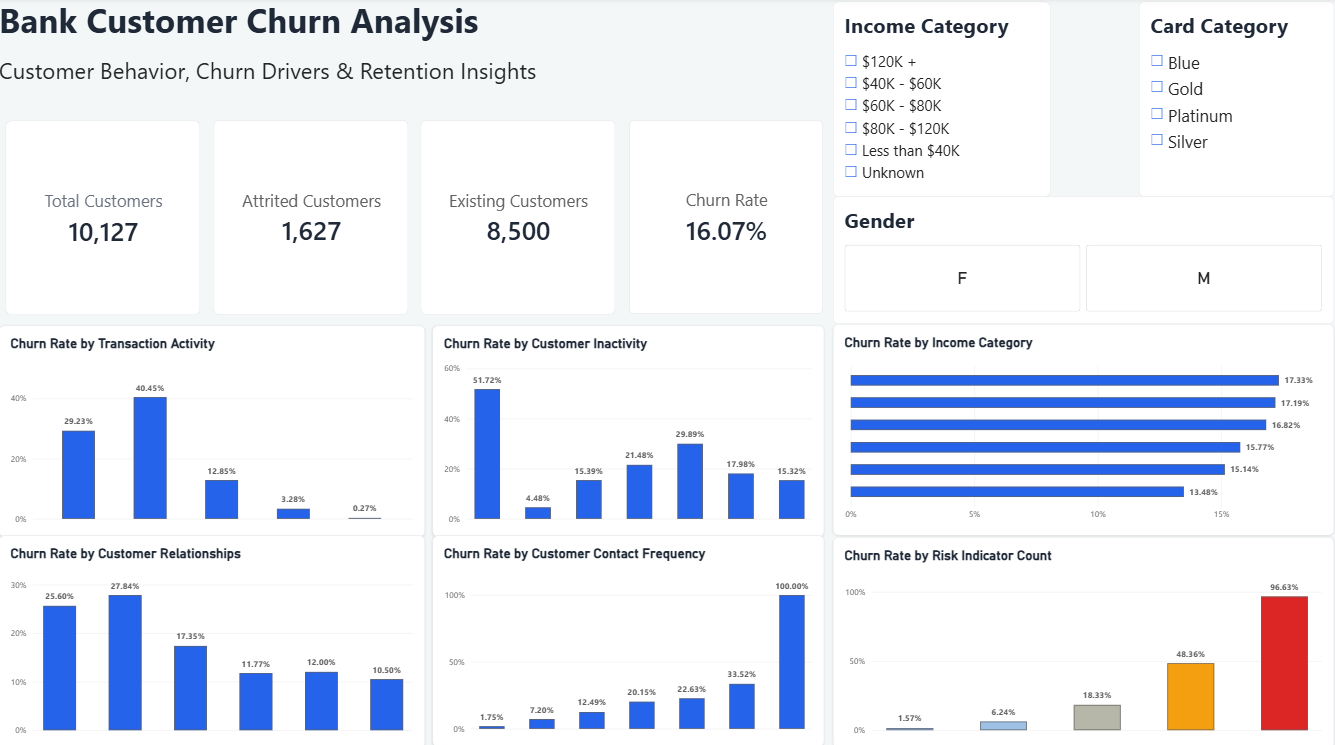

What the dashboard file says about the page in this screenshot:
{"tool":"powerbi","page":{"name":"Bank_Churn_Anlysis_Dashboard","canvas":[1920,1080],"ordinal":0},"visuals":[{"type":"cardVisual","fields":{"Data":["Bank_Churn_Cleaned.Total Customers"]},"box":[8.6,176.9,280,280],"z":0},{"type":"cardVisual","fields":{"Data":["Bank_Churn_Cleaned.Attrited Customers"]},"box":[307.8,176.9,280,280],"z":1000},{"type":"cardVisual","fields":{"Data":["Bank_Churn_Cleaned.Existing Customers"]},"box":[606.9,176.9,280,280],"z":2000},{"type":"cardVisual","fields":{"Data":["Bank_Churn_Cleaned.Churn Rate"]},"box":[906,176.9,279.4,279.4],"z":3000},{"type":"clusteredColumnChart","title":"Churn Rate by Transaction Activity","fields":{"Y":["Bank_Churn_Cleaned.Churn Rate"],"Category":["Bank_Churn_Cleaned.Transaction Count Group"]},"box":[0,472.4,612.6,304.2],"z":4000},{"type":"clusteredColumnChart","title":"Churn Rate by Customer Relationships","fields":{"Category":["Bank_Churn_Cleaned.Total_Relationship_Count"],"Y":["Bank_Churn_Cleaned.Churn Rate"]},"box":[0,774.4,612.6,306.3],"z":5000},{"type":"clusteredColumnChart","title":"Churn Rate by Customer Inactivity","fields":{"Y":["Bank_Churn_Cleaned.Churn Rate"],"Category":["Bank_Churn_Cleaned.Months_Inactive_12_mon"]},"box":[623.4,472.4,563,304.2],"z":6000},{"type":"clusteredColumnChart","title":"Churn Rate by Customer Contact Frequency","fields":{"Y":["Bank_Churn_Cleaned.Churn Rate"],"Category":["Bank_Churn_Cleaned.Contacts_Count_12_mon"]},"box":[623.4,774.4,563,304.2],"z":7000},{"type":"clusteredBarChart","title":"Churn Rate by Income Category","fields":{"Y":["Bank_Churn_Cleaned.Churn Rate"],"Category":["Bank_Churn_Cleaned.Income_Category"]},"box":[1199.4,470.3,720.5,304.2],"z":8000},{"type":"clusteredColumnChart","title":"Churn Rate by Risk Indicator Count","fields":{"Category":["Bank_Churn_Cleaned.Risk Indicator Count"],"Y":["Bank_Churn_Cleaned.Churn Rate"]},"box":[1199.4,776.6,720.5,304.2],"z":9000},{"type":"advancedSlicerVisual","fields":{"Values":["Bank_Churn_Cleaned.Gender"]},"box":[1199.4,286.9,720.5,183.4],"z":10000},{"type":"listSlicer","title":"Income Category","fields":{"Values":["Bank_Churn_Cleaned.Income_Category"]},"box":[1199.4,6.5,312.8,280.4],"z":11000},{"type":"listSlicer","title":"Card Category","fields":{"Values":["Bank_Churn_Cleaned.Card_Category"]},"box":[1639.4,6.5,280.4,280.4],"z":12000},{"type":"textbox","box":[288,0,280,177],"z":13000},{"type":"textbox","box":[0,0,975,140.2],"z":14000}]}

Visuals, with their boxes in screenshot pixels (x1, y1, x2, y2), scaled from the page's 1920x1080 canvas onto the 1335x745 screenshot:
cardVisual - Bank_Churn_Cleaned.Total Customers: (left=6, top=122, right=201, bottom=315)
cardVisual - Bank_Churn_Cleaned.Attrited Customers: (left=214, top=122, right=409, bottom=315)
cardVisual - Bank_Churn_Cleaned.Existing Customers: (left=422, top=122, right=617, bottom=315)
cardVisual - Bank_Churn_Cleaned.Churn Rate: (left=630, top=122, right=824, bottom=315)
"Churn Rate by Transaction Activity" clusteredColumnChart: (left=0, top=326, right=426, bottom=536)
"Churn Rate by Customer Relationships" clusteredColumnChart: (left=0, top=534, right=426, bottom=744)
"Churn Rate by Customer Inactivity" clusteredColumnChart: (left=433, top=326, right=825, bottom=536)
"Churn Rate by Customer Contact Frequency" clusteredColumnChart: (left=433, top=534, right=825, bottom=744)
"Churn Rate by Income Category" clusteredBarChart: (left=834, top=324, right=1334, bottom=534)
"Churn Rate by Risk Indicator Count" clusteredColumnChart: (left=834, top=536, right=1334, bottom=744)
advancedSlicerVisual - Bank_Churn_Cleaned.Gender: (left=834, top=198, right=1334, bottom=324)
"Income Category" listSlicer: (left=834, top=4, right=1051, bottom=198)
"Card Category" listSlicer: (left=1140, top=4, right=1334, bottom=198)
textbox: (left=200, top=0, right=395, bottom=122)
textbox: (left=0, top=0, right=678, bottom=97)
